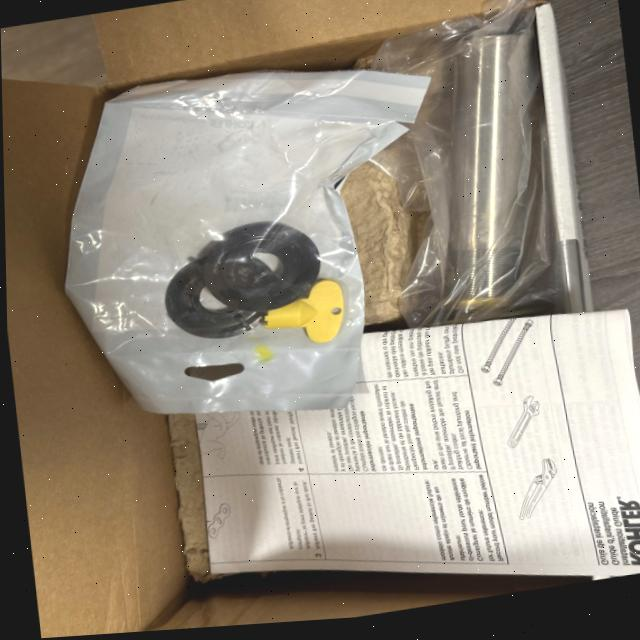11o: (355, 0, 558, 326)
12: (65, 69, 430, 412)
8: (197, 309, 640, 575)
